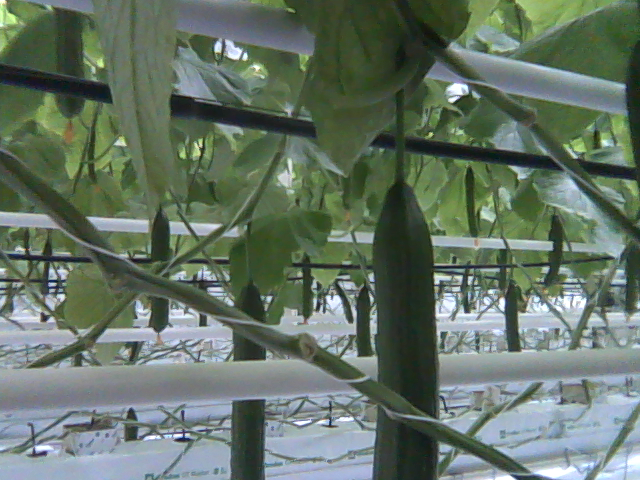concombre: (368, 173, 443, 480)
